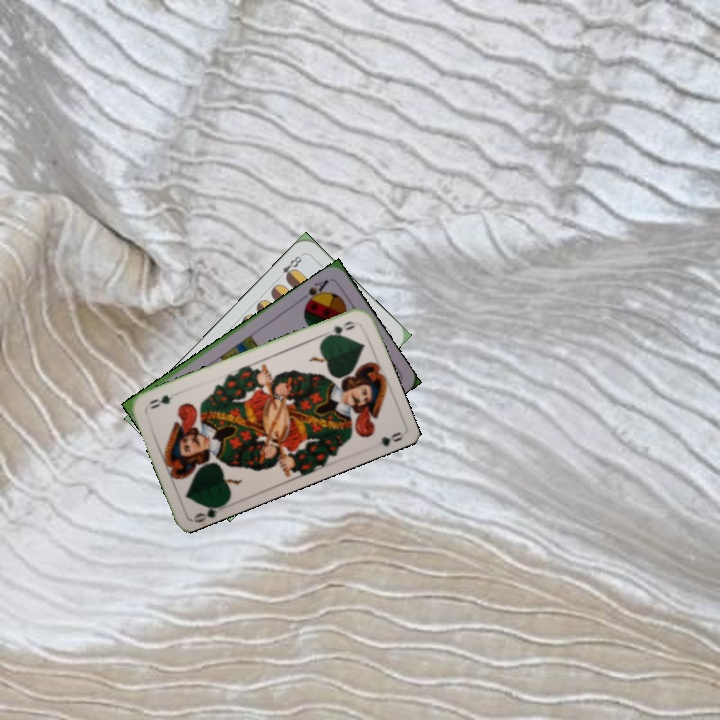E8: (278, 250, 305, 283)
GO: (190, 500, 228, 525), (321, 317, 358, 341)
SA: (297, 275, 332, 308)
